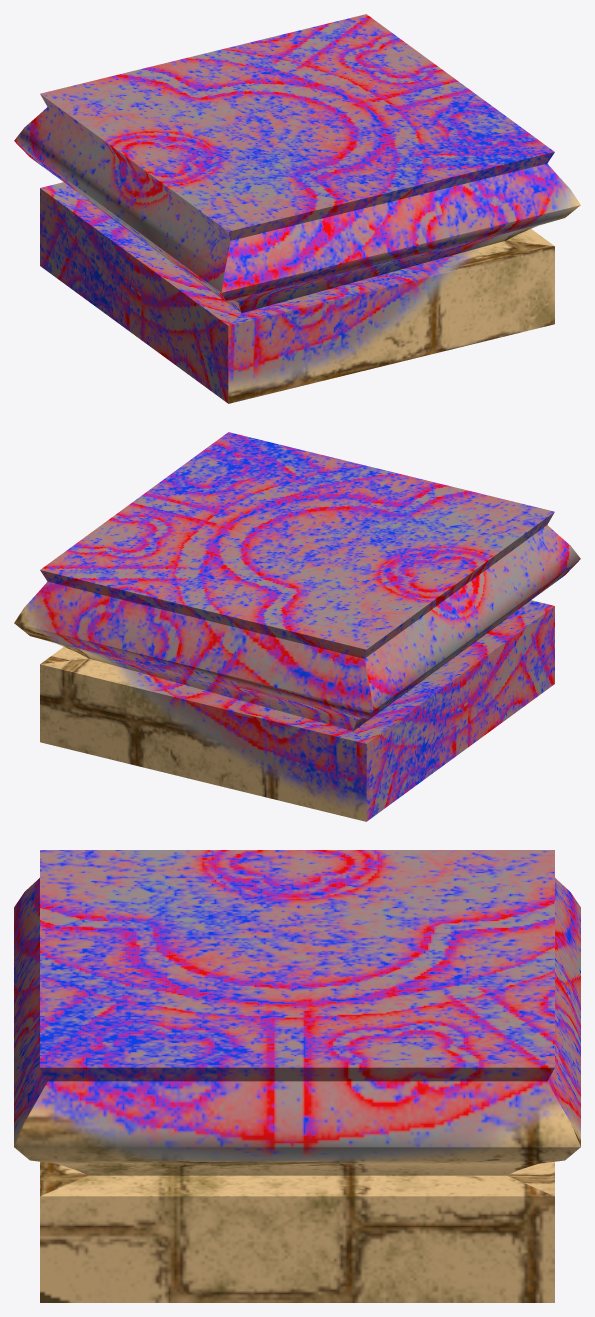
3 views of the same model, one above another, from view 1: azimuth 30°, elevation 25°; view 2: azimuth 150°, elevation 25°; view 3: azimuth 270°, elevation 25° (orthographic). The views are drawn at different scales.
Visible parts, largest first — view 1: SM_Base2; view 2: SM_Base2; view 3: SM_Base2.
Boxes of the visible parts, x1,y1,x2,y2 form: SM_Base2: [14, 14, 580, 403]; SM_Base2: [14, 432, 580, 821]; SM_Base2: [14, 850, 580, 1302].
Bounding box in the file's own units: 109 × 50 × 109.
